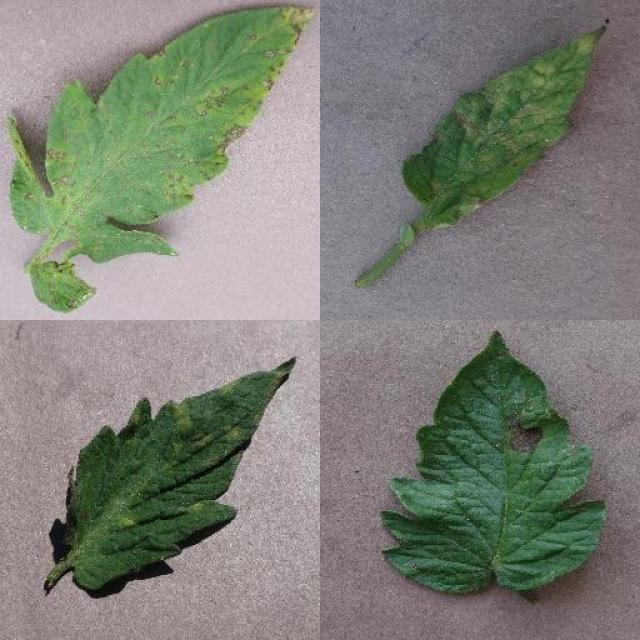Early Blight: (380, 329, 609, 596)
Septoria: (9, 3, 315, 265)
